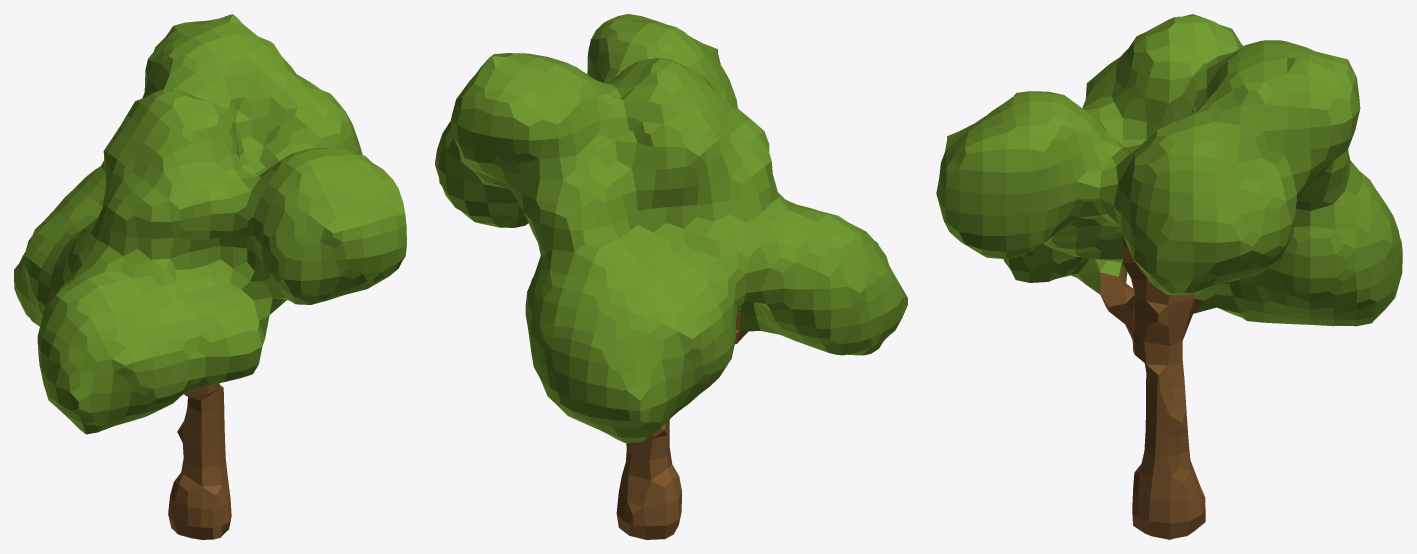
The model's file is Tree_LOD_2.fbx.
3 views of the same model, side by side, from view 1: azimuth 30°, elevation 25°; view 2: azimuth 150°, elevation 25°; view 3: azimuth 270°, elevation 25° (orthographic). The views are drawn at different scales.
Visible parts, largest first — view 1: Cube.004; view 2: Cube.004; view 3: Cube.004.
Part boxes in pixels (x1,y1,x2,y2): Cube.004: (14,14,406,539); Cube.004: (435,14,907,539); Cube.004: (936,14,1402,539).
Bounding box in the file's own units: 1998 × 2475 × 1995.
